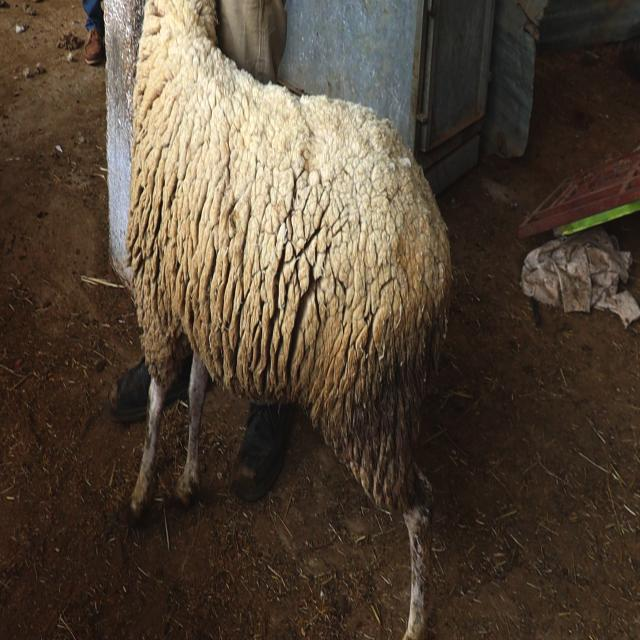Score_4: (126, 0, 452, 639)
